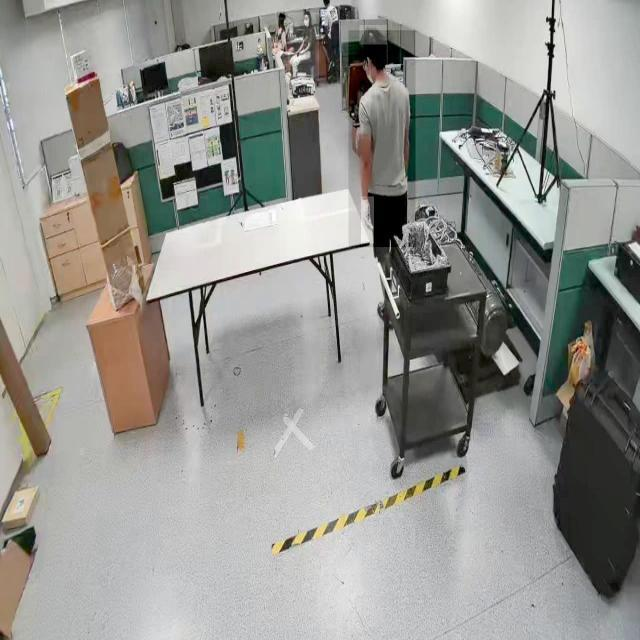gloves: (362, 197, 374, 244)
